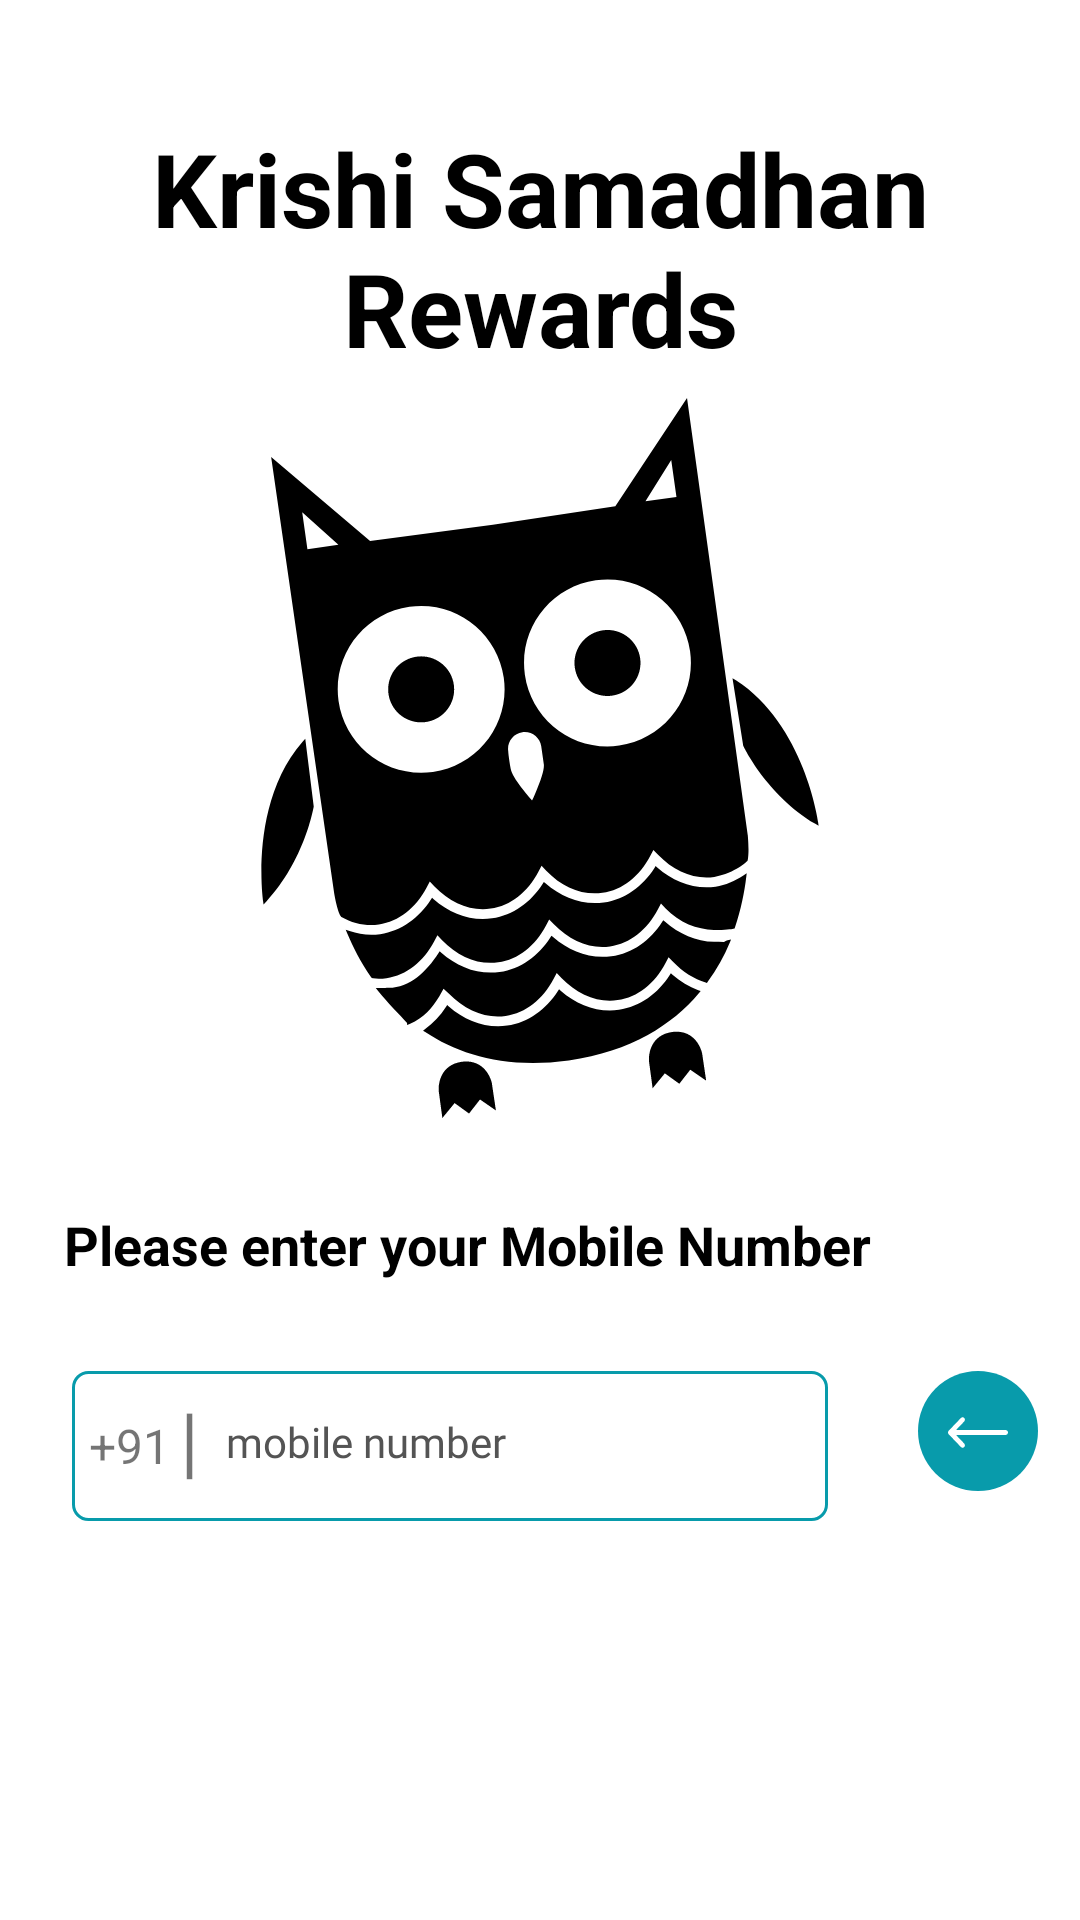

Named icons in this screenshot (1080px×1920px) and their bounding boxes, {"x1": x1, "y1": y1, "x2": x2, "y2": y2}:
back: {"x1": 918, "y1": 1371, "x2": 1038, "y2": 1491}
